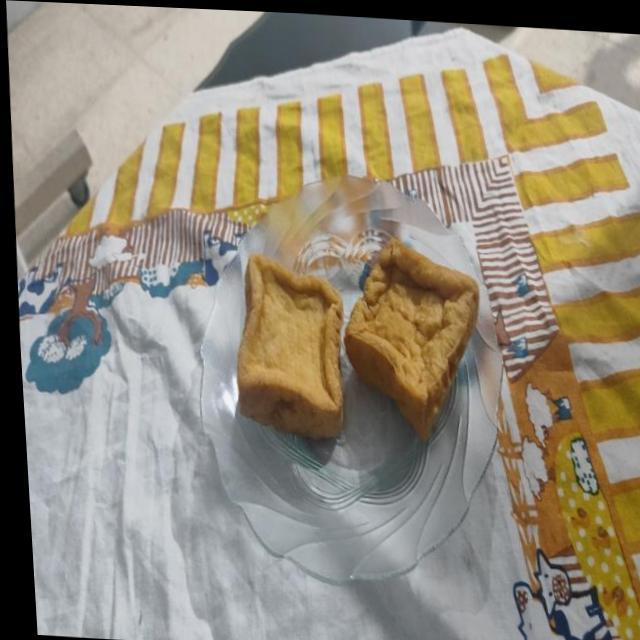tahu_goreng: (344, 238, 478, 440), (236, 254, 342, 437)
